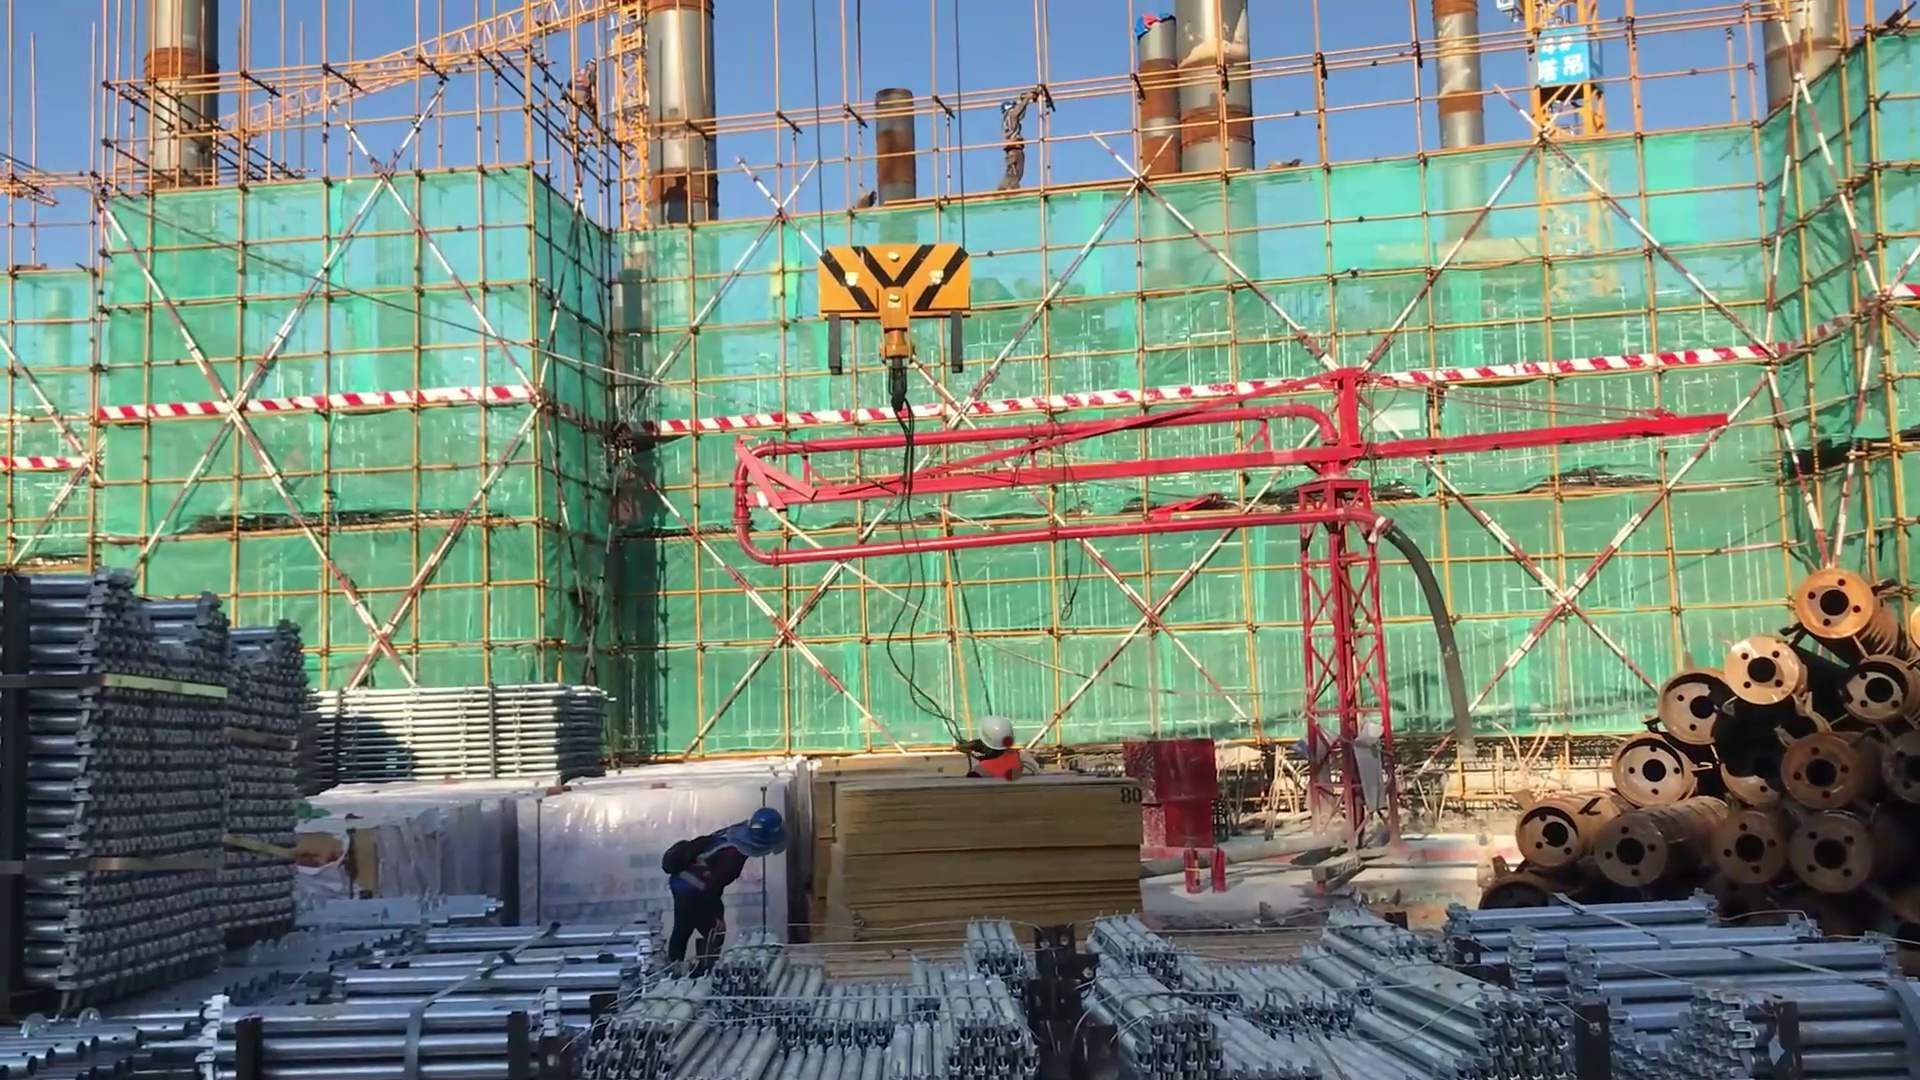board: (805, 764, 1143, 942)
helmet: (740, 809, 791, 863), (969, 712, 1020, 759), (995, 94, 1020, 120)
hook: (801, 224, 1005, 509)
person: (658, 795, 785, 975), (943, 708, 1033, 794), (984, 86, 1034, 208)
scaffold: (1, 577, 309, 988), (3, 877, 523, 1080), (1436, 901, 1920, 1078), (1094, 910, 1579, 1080), (558, 917, 1058, 1080), (293, 677, 626, 784)
slogan: (1536, 27, 1601, 96)
vest: (668, 817, 753, 909), (960, 750, 1028, 785), (999, 111, 1027, 147)
